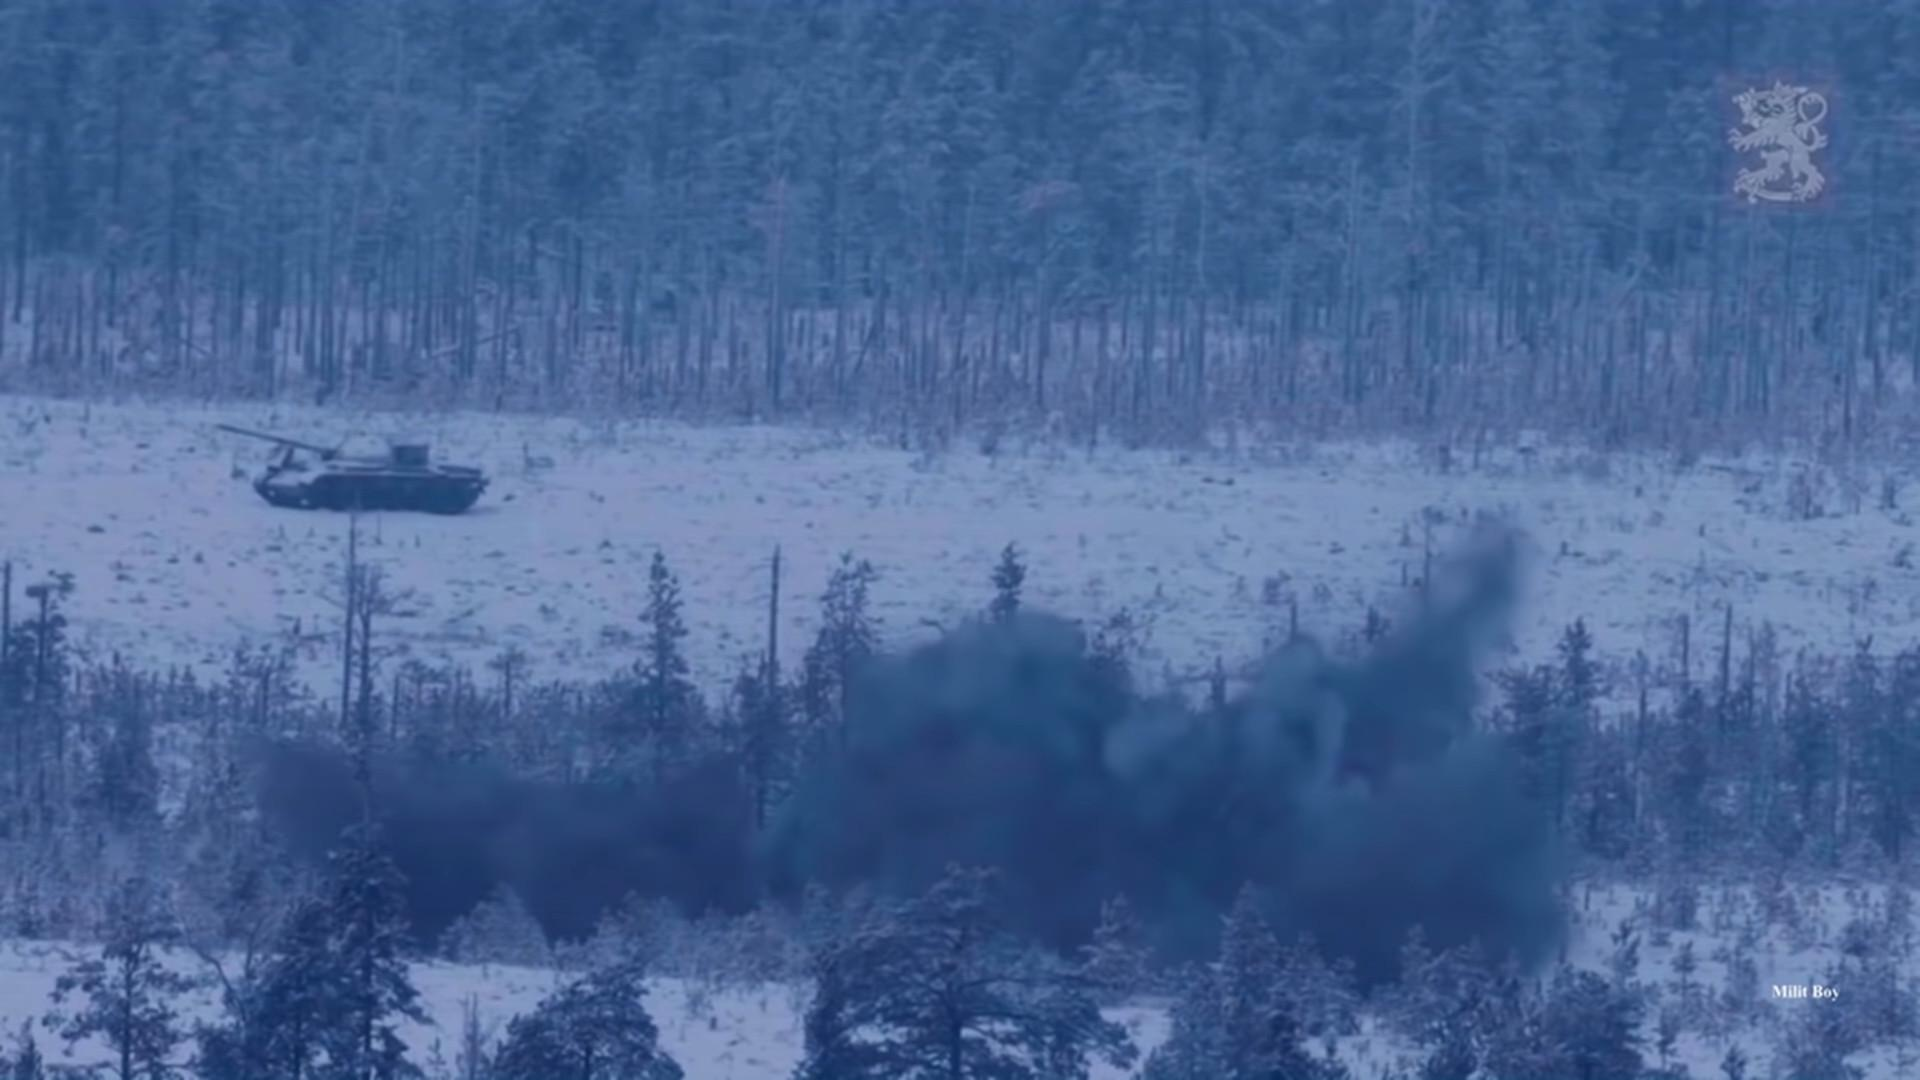tank: (215, 424, 487, 516)
